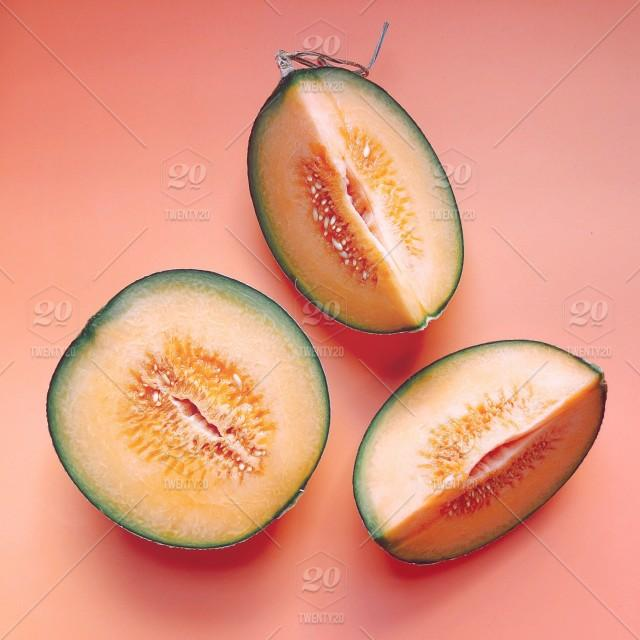melon: (48, 266, 333, 559), (344, 334, 613, 575), (247, 44, 465, 336)
